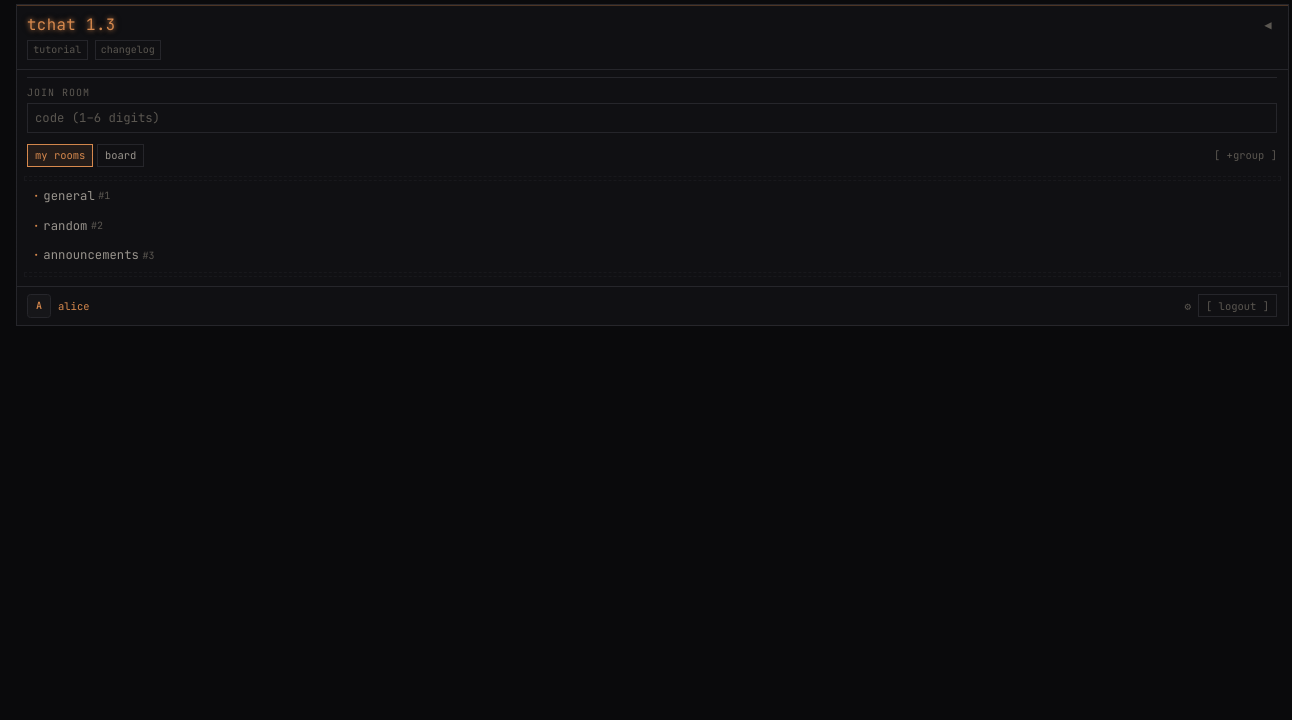
Test case: Mute room context menu — unmuted room › dismisses the context menu when clicking outside
Expected: the button with test id "gc-button-1" is shown, [32,188,110,204]
Expected: the button with test id "gc-button-3" is shown, [32,247,154,263]
Right-click the button with test id "gc-button-2" at (68, 226), box [32,218,103,234]
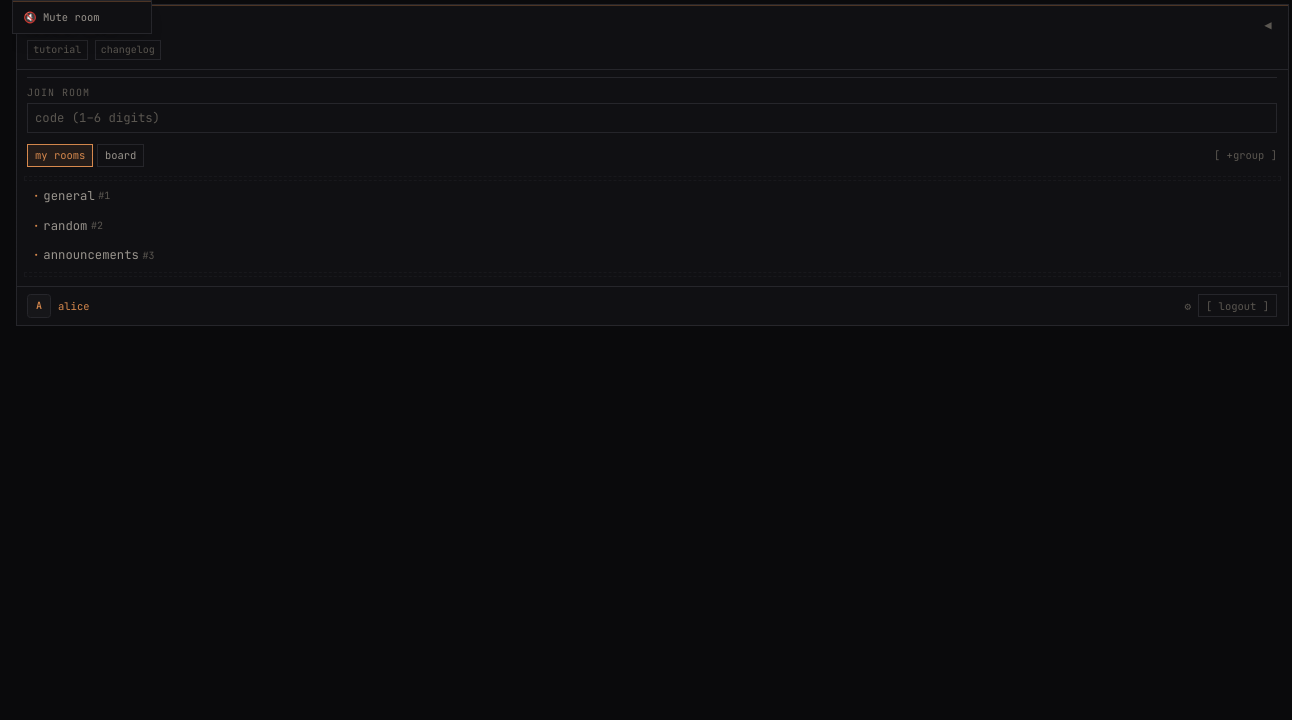
Expected: the button "🔇 Mute room" is shown, [13,4,151,29]
Click the element that starts with "tchat 1.3" at (652, 360), box [12,0,1291,719]
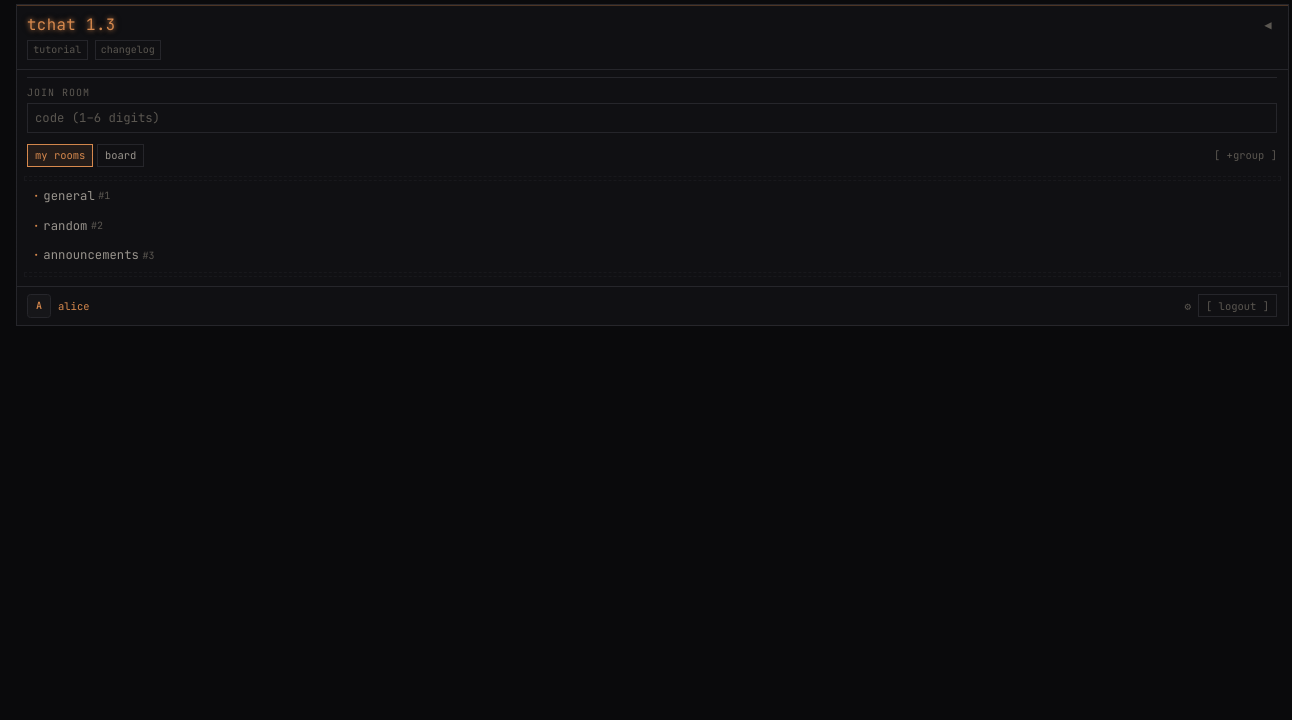
Expected: the button "🔇 Mute room" is gone
